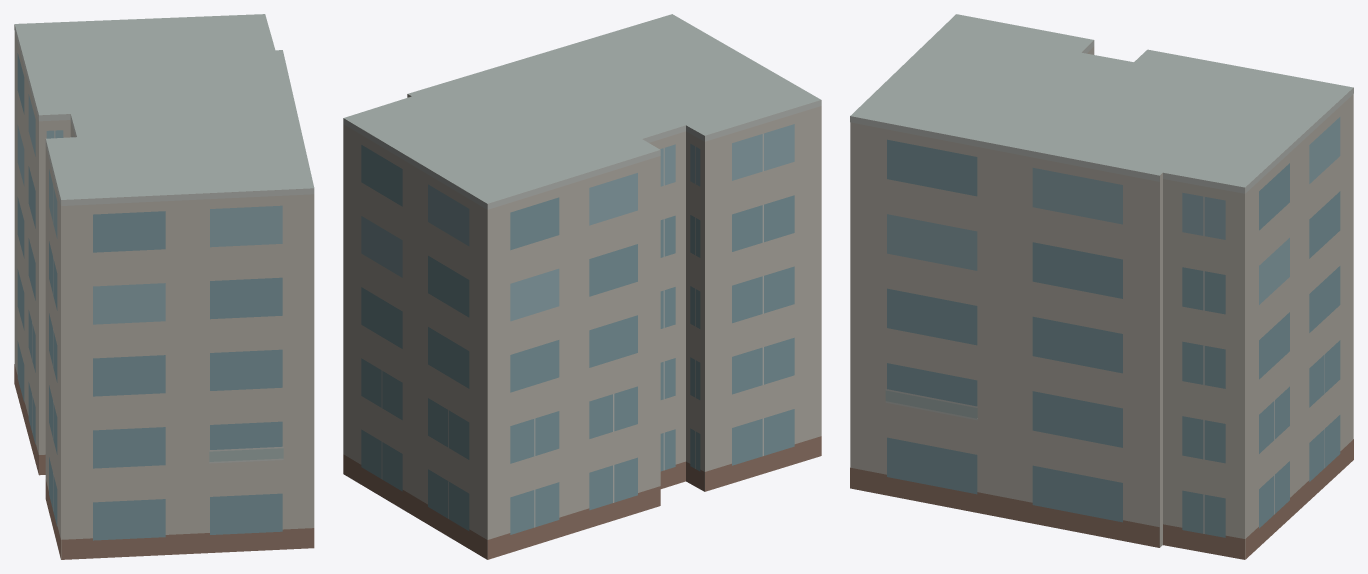
Rendered from survey-upis-33001927.glb.
The picture shows the model from 3 angles, left to right: view 1: azimuth 30°, elevation 25°; view 2: azimuth 150°, elevation 25°; view 3: azimuth 270°, elevation 25°; orthographic projection. The views are drawn at different scales.
Visible parts, largest first — view 1: survey-upis-33001927.tmp; view 2: survey-upis-33001927.tmp; view 3: survey-upis-33001927.tmp.
Boxes of the visible parts, x1=… form: survey-upis-33001927.tmp: x1=14, y1=14, x2=314, y2=559; survey-upis-33001927.tmp: x1=343, y1=14, x2=821, y2=559; survey-upis-33001927.tmp: x1=850, y1=14, x2=1353, y2=559.
Size of the model in its own units: 14.5 by 14.5 by 17.78.
